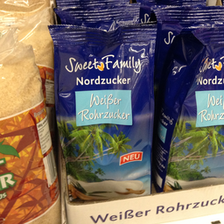sugar: (48, 21, 157, 203), (157, 13, 224, 190), (1, 34, 61, 224)
